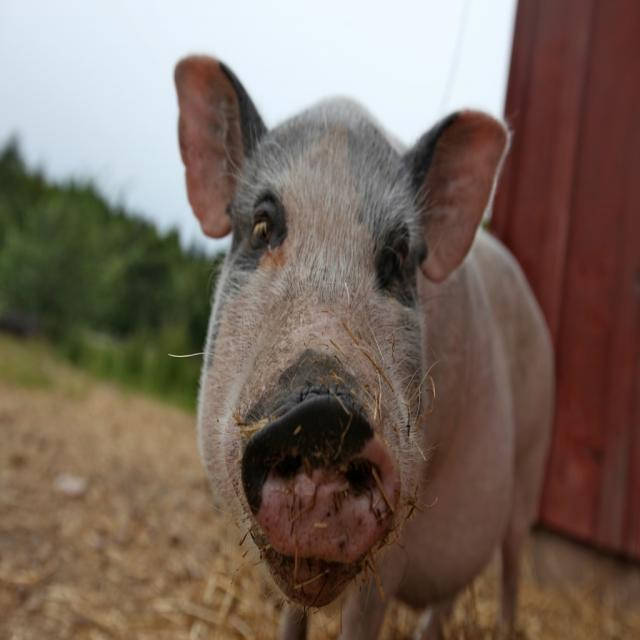Pig: (166, 51, 554, 640)
